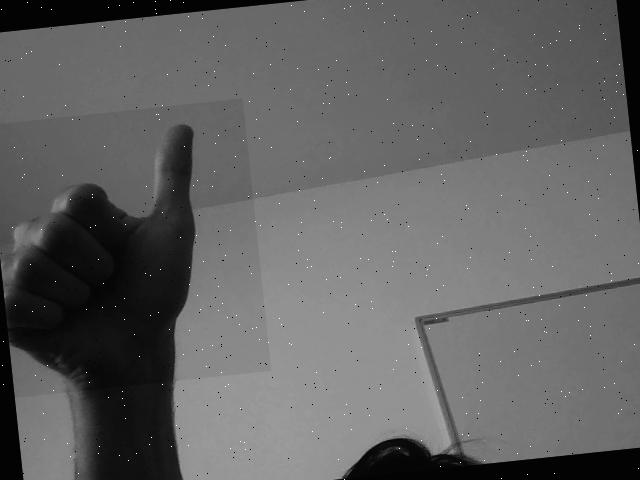good: (0, 98, 271, 397)
